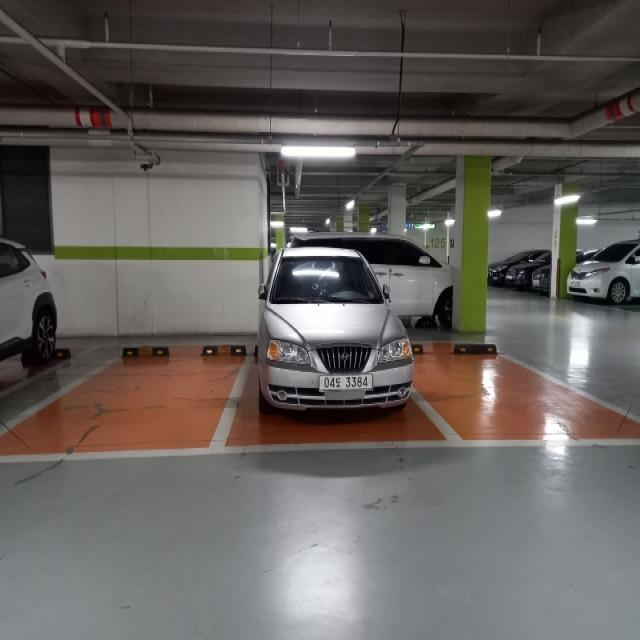empty: (0, 348, 260, 464), (417, 344, 640, 444)
occupied: (257, 246, 415, 419)
